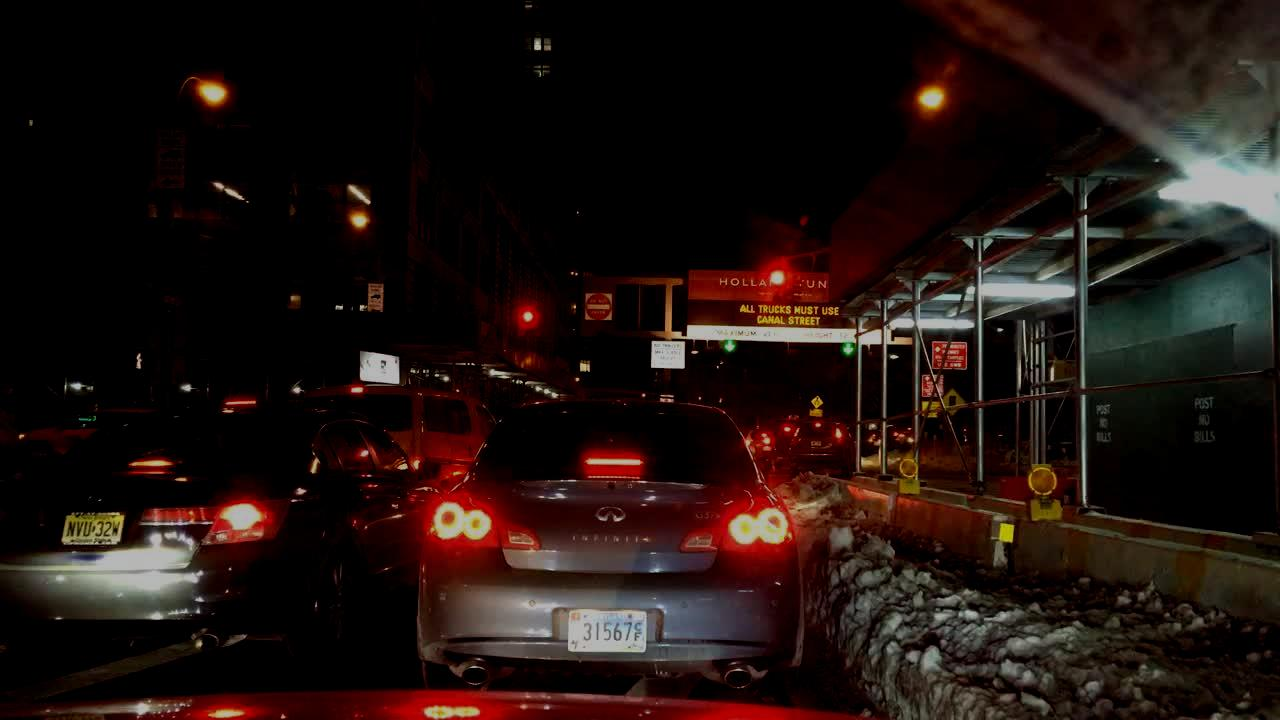Honda: (75, 473, 112, 516)
Infiniti: (582, 497, 646, 533)
